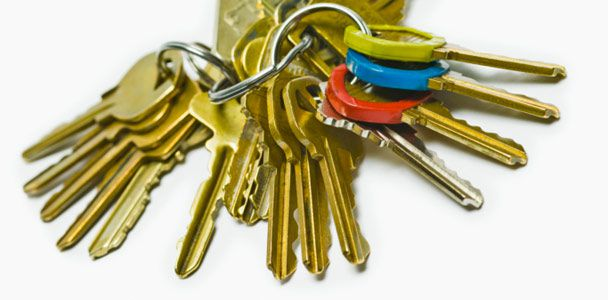key: (12, 14, 578, 287)
